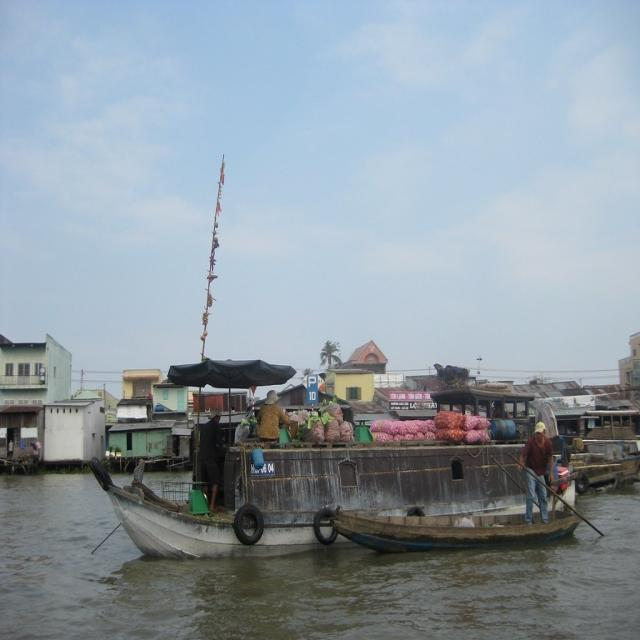boat: (74, 392, 584, 569), (322, 492, 597, 560)
